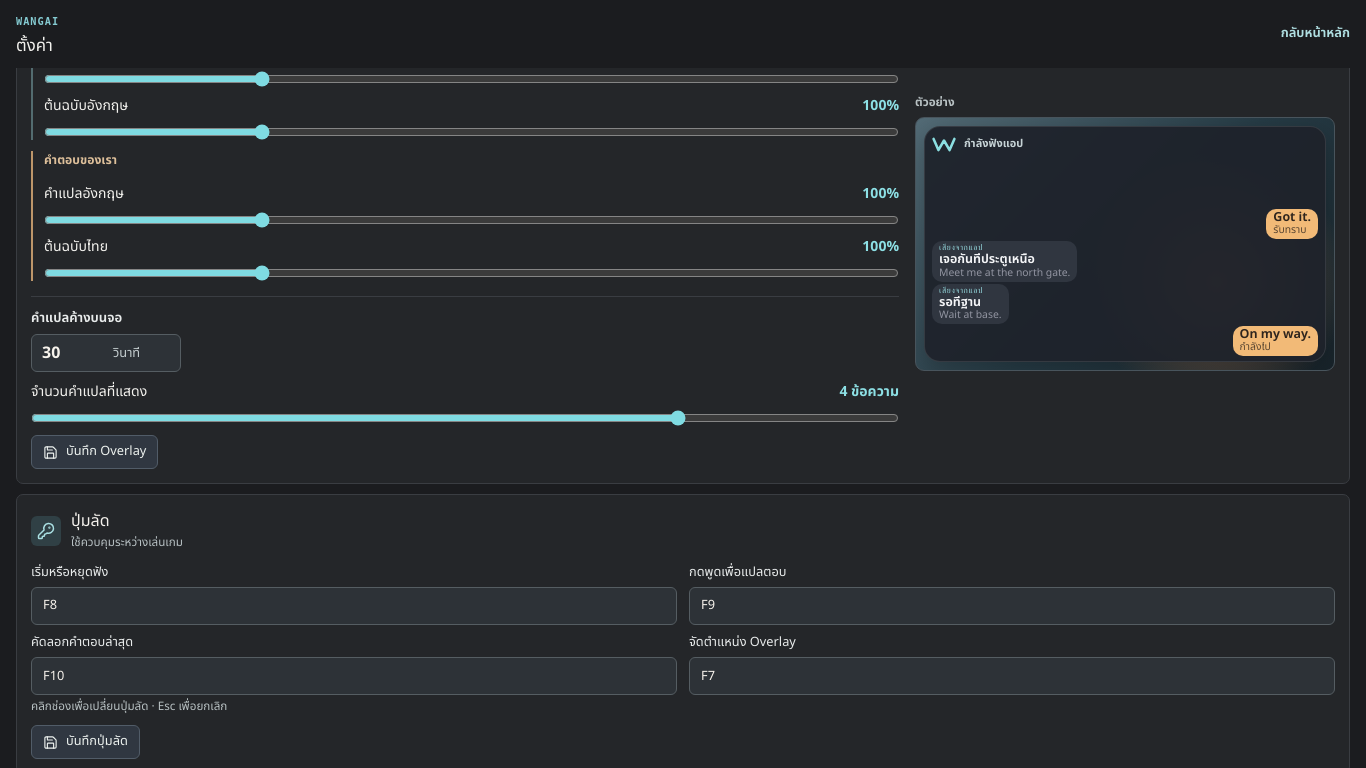
Test case: settings with nullable desktop audio diagnostics › previews the selected number of recent translations immediately
(page scrolled)
Expected: the number of elements with class "overlay-bubble" is 4, [1266,210,1318,240]; [932,242,1077,282]; [932,284,1008,324]; [1232,326,1318,357]
Set the slider labelled "จำนวนคำแปลที่แสดง 4 ข้อความ" to "1": (39, 418) [31,410,899,426]
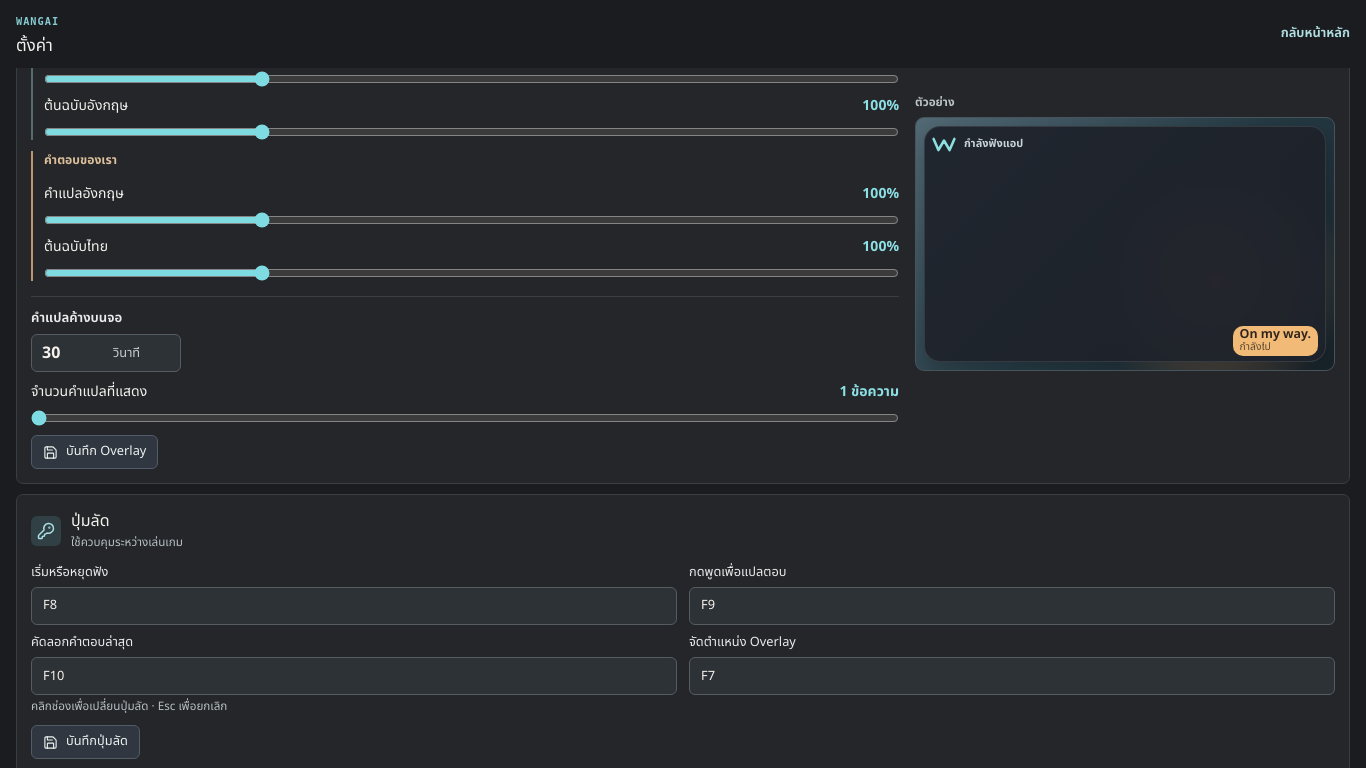
Expected: the number of elements with class "overlay-bubble" is 1, [1232,326,1318,357]
Expected: the text "On my way." is shown, [1240,328,1311,343]
Set the slider labelled "จำนวนคำแปลที่แสดง 1 ข้อความ" to "5": (891, 418) [31,410,899,426]
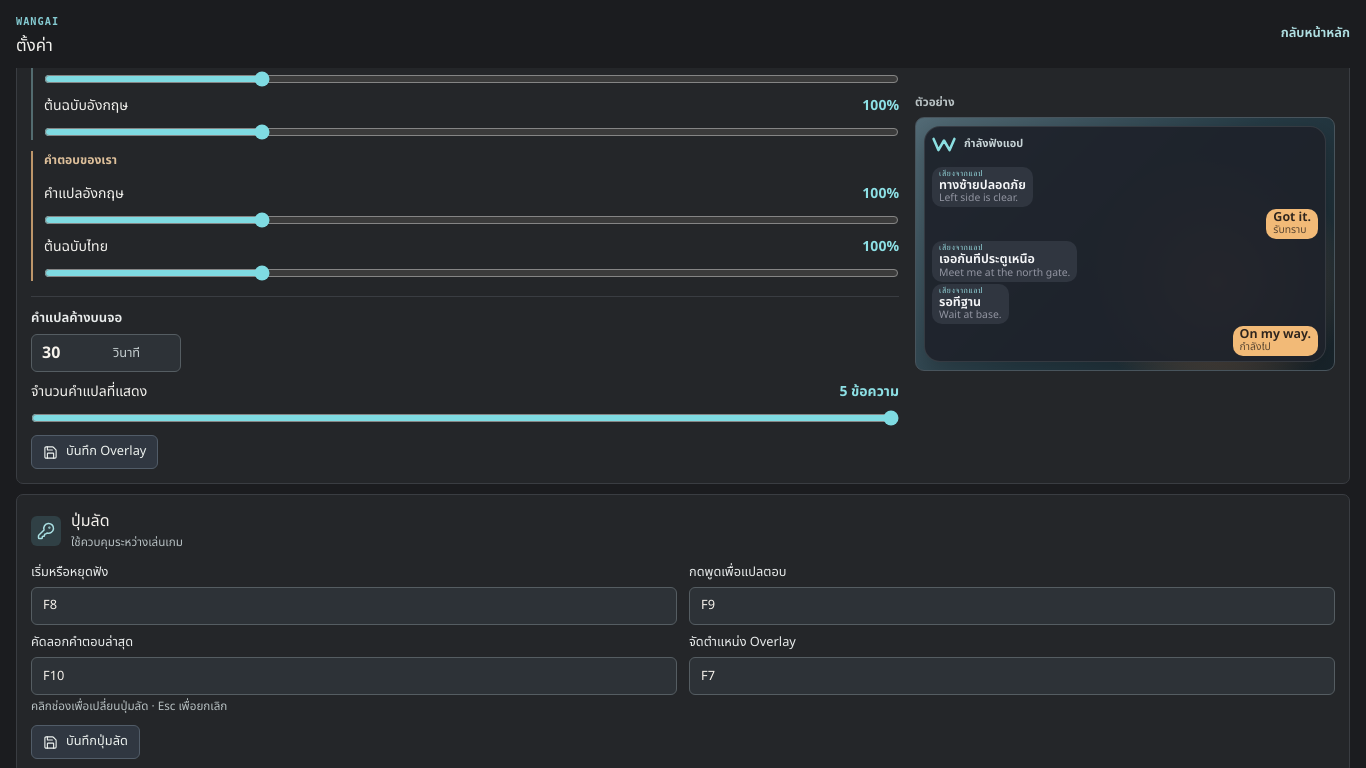
Now the number of elements with class "overlay-bubble" is 5, box [932,167,1033,208]; [1266,210,1318,240]; [932,242,1077,282]; [932,284,1008,324]; [1232,326,1318,357]
Now the text "ทางซ้ายปลอดภัย" is shown, box [939,179,1026,194]
